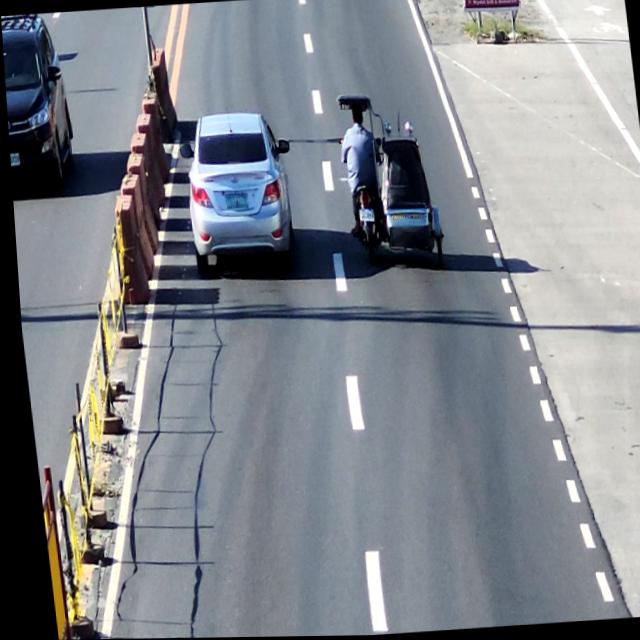Car: (173, 112, 307, 298)
License-Plate: (219, 191, 251, 214), (356, 207, 374, 225)
Tricycle: (326, 87, 451, 277)
